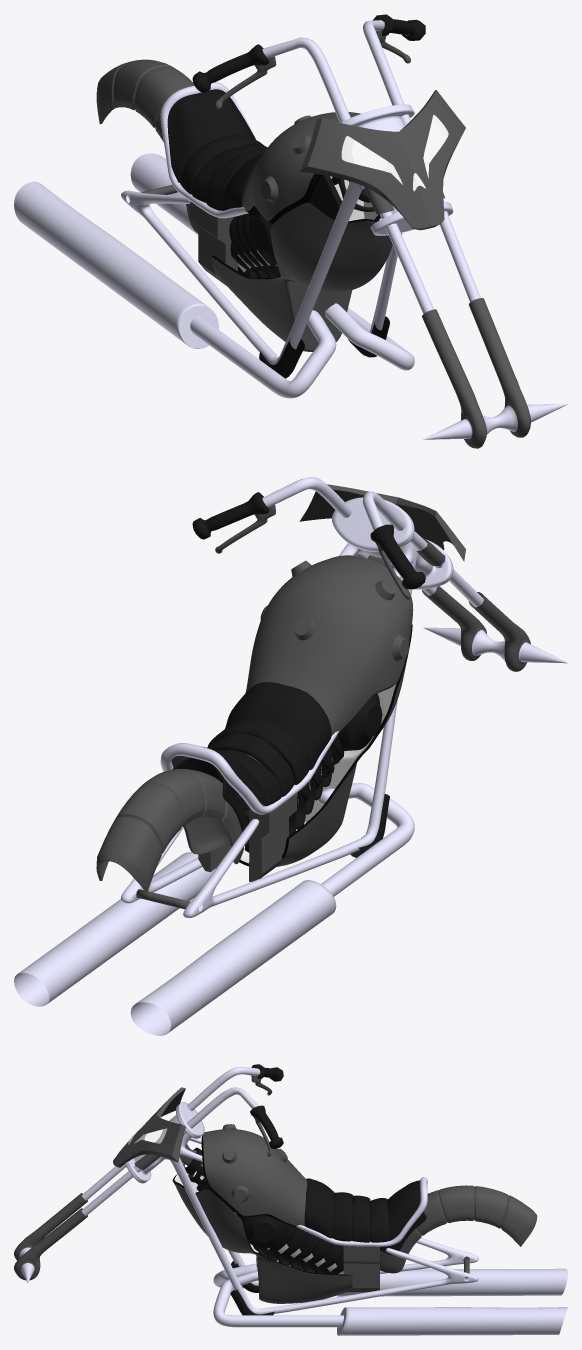
File: bike_nw.glb
3 renders of one model, top to bottom at view 1: azimuth 30°, elevation 25°; view 2: azimuth 150°, elevation 25°; view 3: azimuth 270°, elevation 25°, orthographic. The views are drawn at different scales.
Visible parts, largest first — view 1: GR_Bike; view 2: GR_Bike; view 3: GR_Bike.
Part boxes in pixels (x1,y1,x2,y2): GR_Bike: (14, 14, 567, 448); GR_Bike: (14, 477, 567, 1035); GR_Bike: (14, 1064, 567, 1335).
Size of the model in its own units: 1.03 by 1.53 by 3.24.
